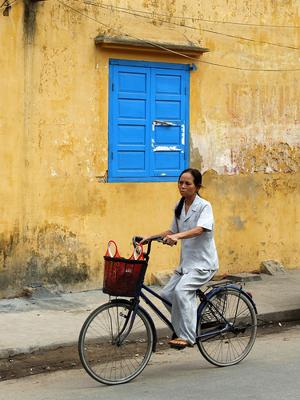person: (142, 170, 219, 350)
